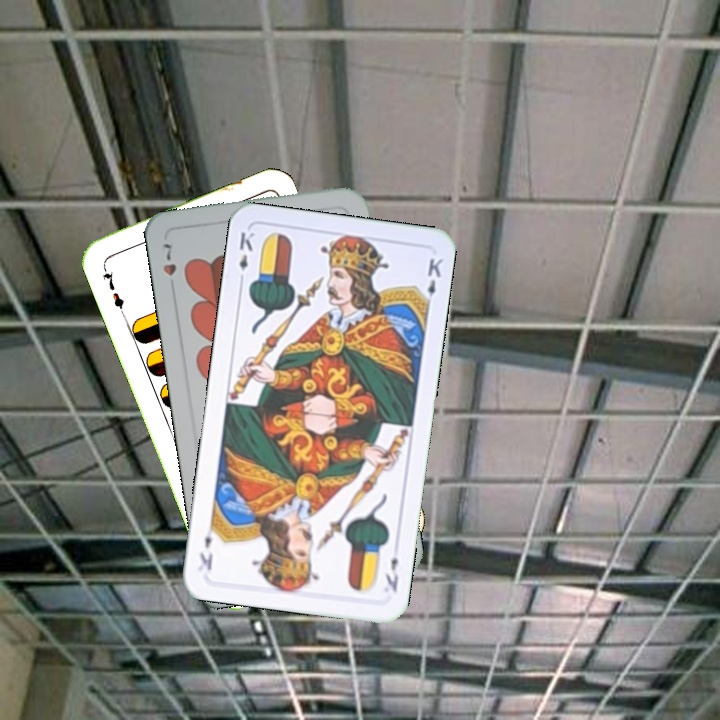E7: (98, 260, 127, 317)
EK: (234, 228, 257, 286), (381, 553, 401, 594)
H7: (159, 238, 179, 295)
